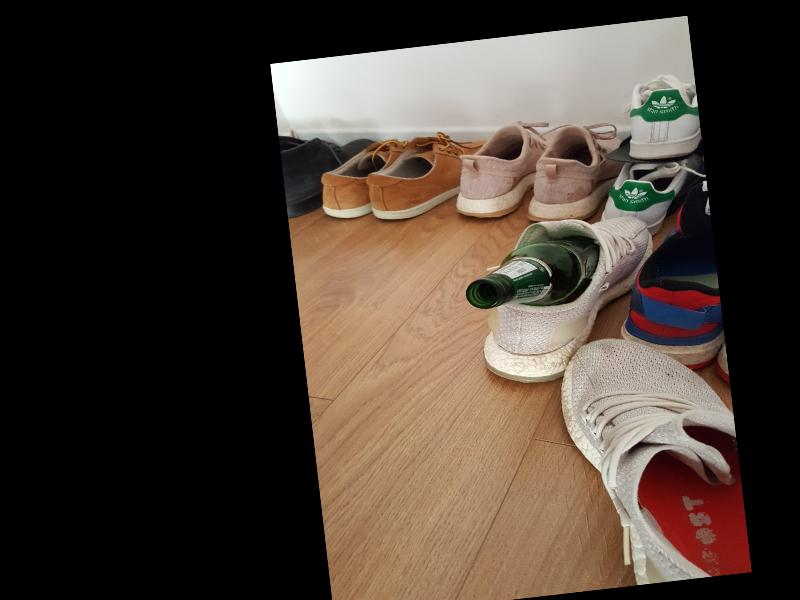Beer: (460, 233, 603, 312)
